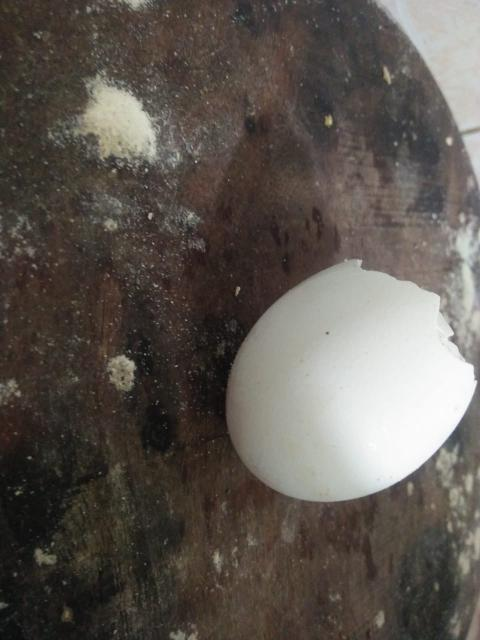Roto: (224, 256, 477, 503)
